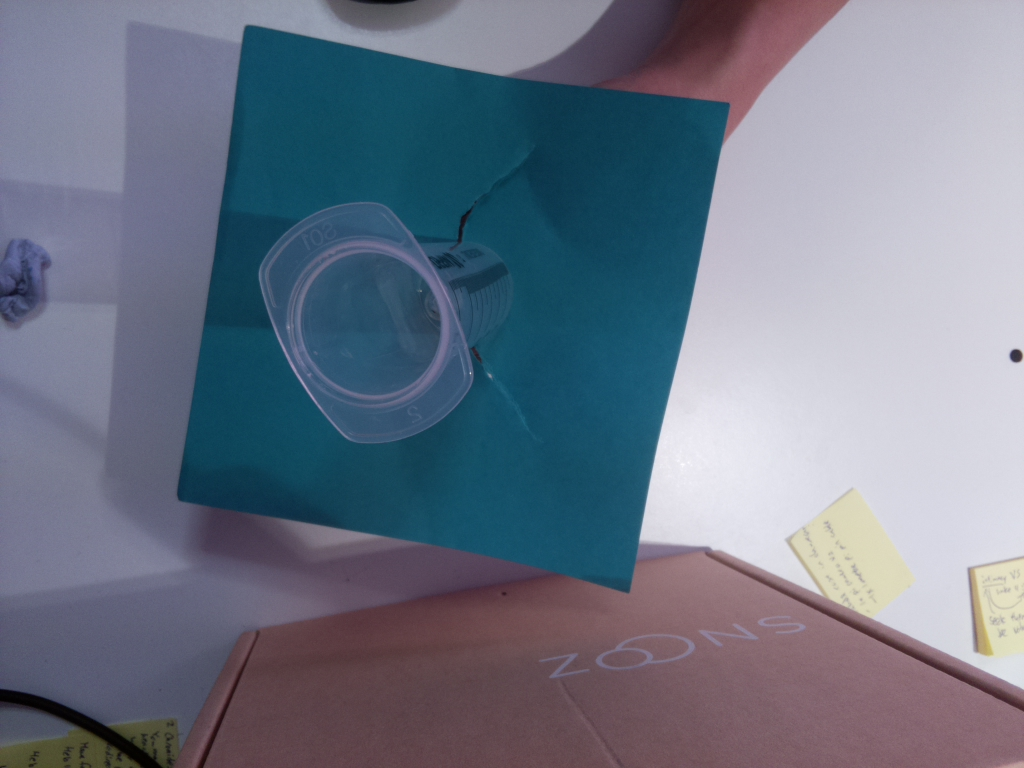clean: (251, 199, 474, 452)
